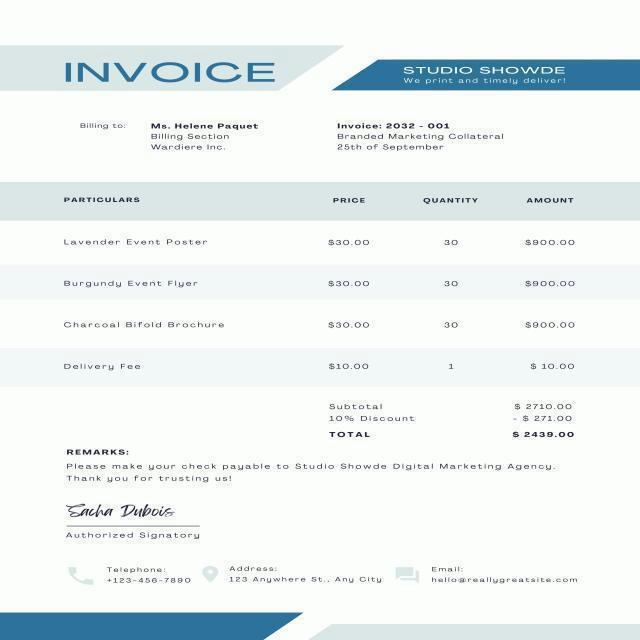paragraph: (61, 446, 559, 487), (322, 396, 581, 444), (330, 115, 509, 157), (75, 116, 266, 155), (57, 55, 284, 87), (59, 496, 208, 543), (226, 560, 389, 589), (399, 62, 576, 88), (427, 560, 584, 587), (103, 560, 197, 589)
table: (47, 181, 595, 381)
